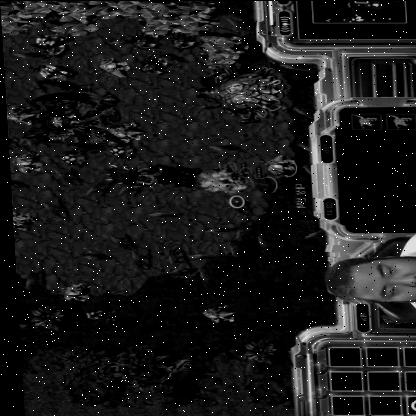streamer: (315, 221, 416, 326)
